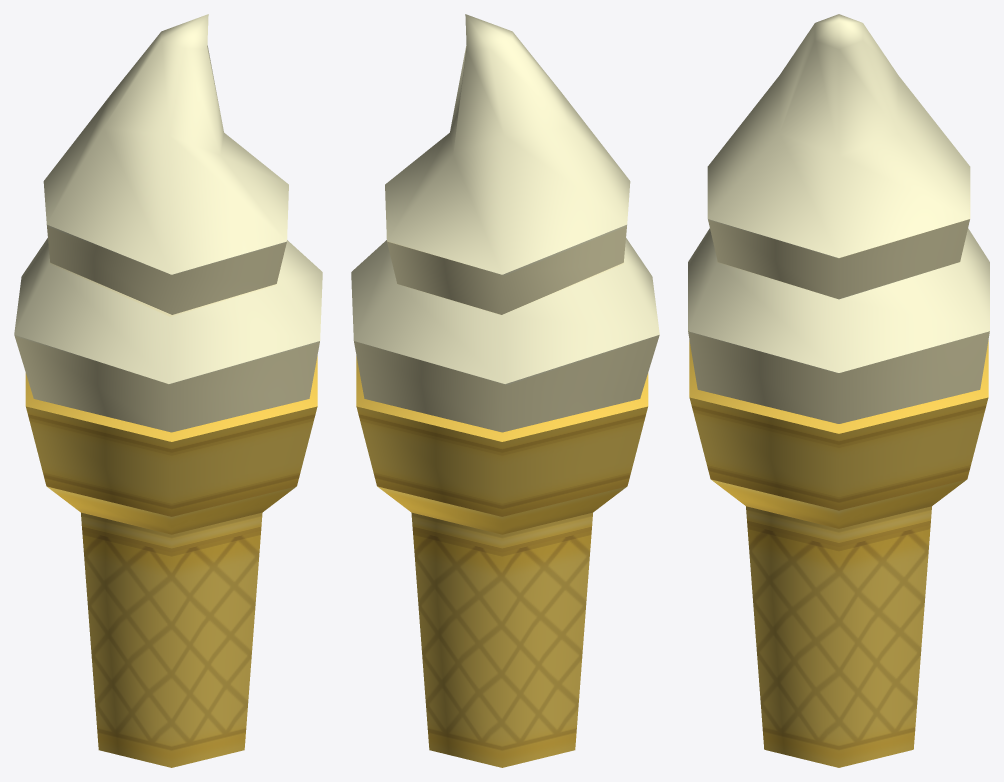
Rendered from fff_iceCream_vanilla.FBX.
3 views of the same model, side by side, from view 1: azimuth 30°, elevation 25°; view 2: azimuth 150°, elevation 25°; view 3: azimuth 270°, elevation 25° (orthographic). The views are drawn at different scales.
Parts seen in each view (by area): view 1: fff_iceCream_vanilla; view 2: fff_iceCream_vanilla; view 3: fff_iceCream_vanilla.
Part boxes in pixels (x1=…): fff_iceCream_vanilla: x1=14, y1=14, x2=322, y2=767; fff_iceCream_vanilla: x1=351, y1=14, x2=659, y2=767; fff_iceCream_vanilla: x1=688, y1=14, x2=989, y2=767.
Bounding box in the file's own units: 3.28 × 7.2 × 2.71.
